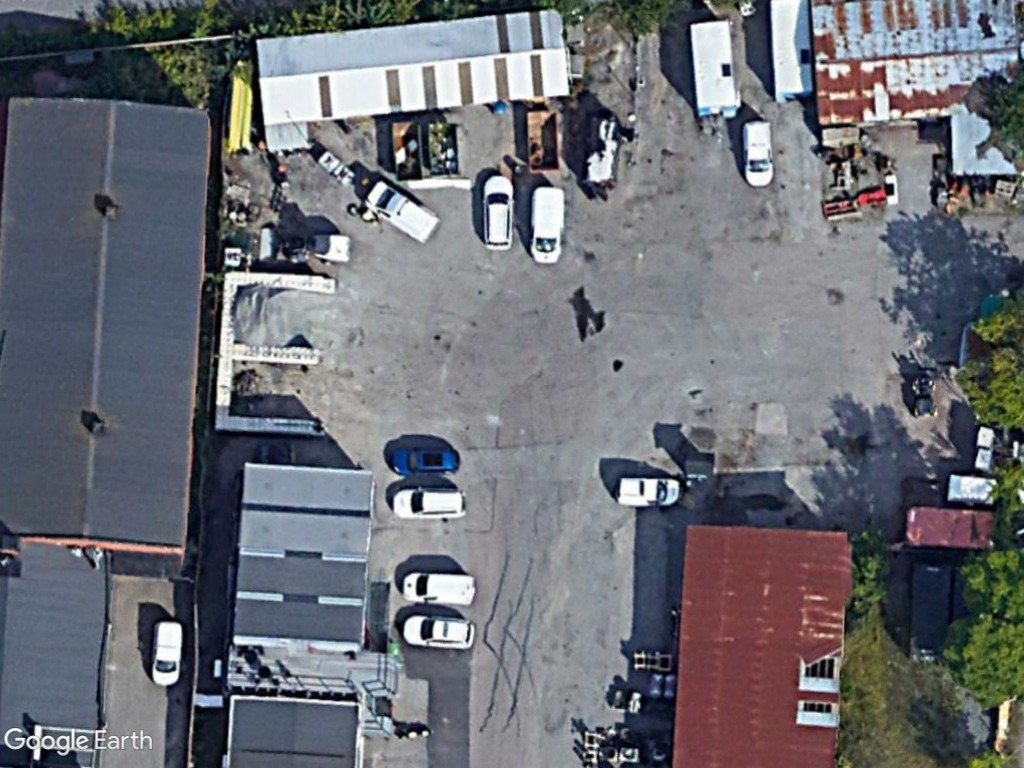car: (479, 172, 519, 253), (400, 612, 478, 653), (386, 484, 470, 522), (387, 445, 463, 479)
van: (361, 175, 443, 245), (527, 183, 567, 269), (399, 567, 480, 609), (738, 116, 778, 190), (149, 617, 187, 689)
